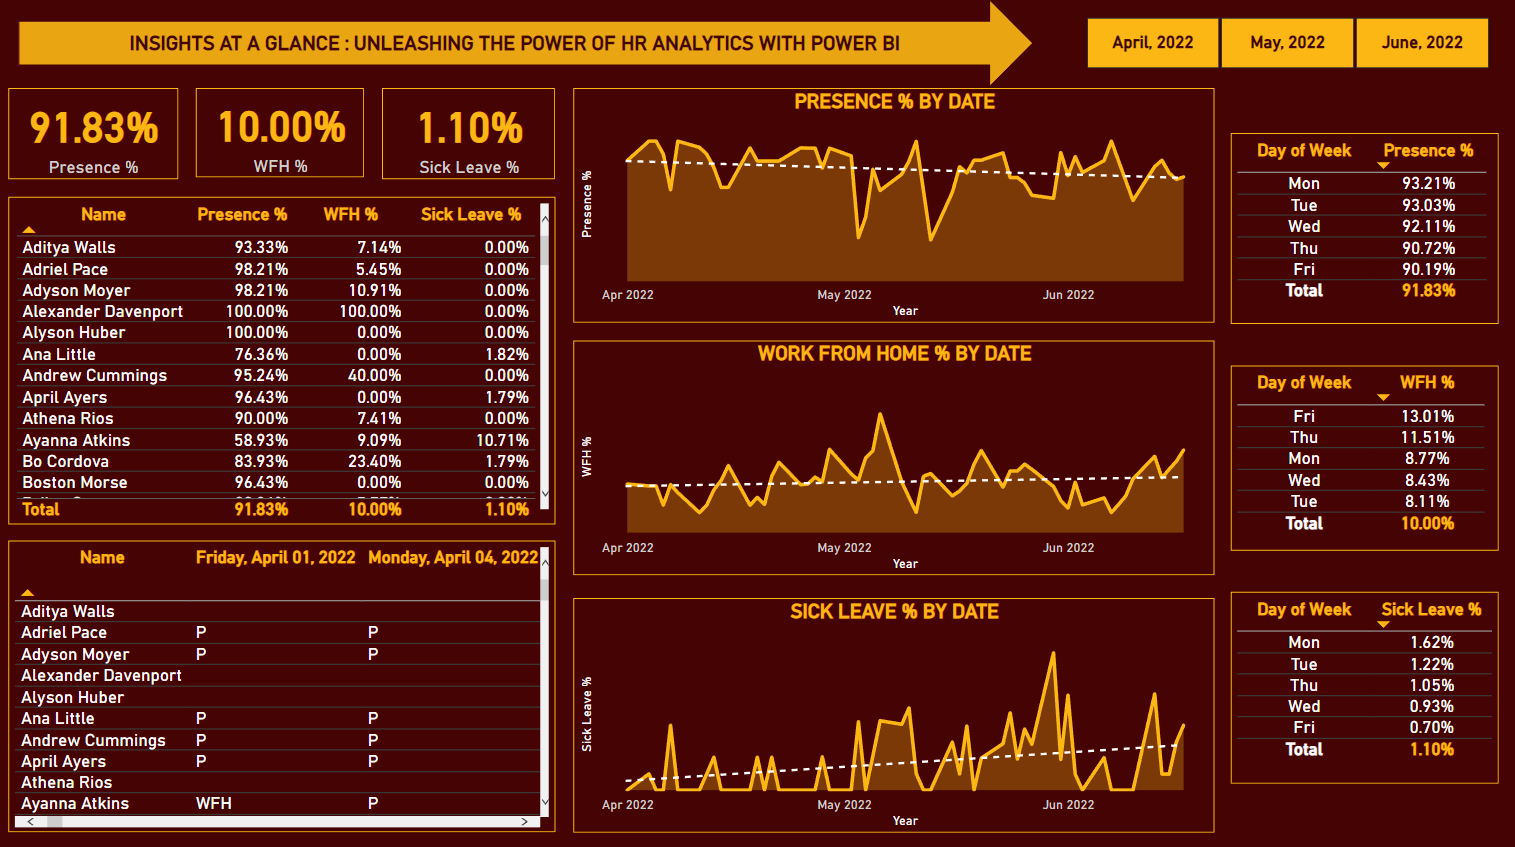

This screenshot's page, from the dashboard's own definition file:
{"tool":"powerbi","page":{"name":"Final Report","canvas":[1280,720],"ordinal":0},"visuals":[{"type":"card","fields":{"Values":["Measure Table.Presence %"]},"box":[9.6,75.5,142.8,76.9],"z":0},{"type":"card","fields":{"Values":["Measure Table.WFH %"]},"box":[167.6,75.5,141.5,75.5],"z":1000},{"type":"card","fields":{"Values":["Measure Table.Sick Leave %"]},"box":[324.1,75.5,145.6,76.9],"z":2000},{"type":"slicer","fields":{"Values":["Final Data.Month"]},"box":[891.3,9.6,388.7,56.3],"z":3000},{"type":"tableEx","fields":{"Values":["Final Data.Name","Measure Table.Presence %","Measure Table.WFH %","Measure Table.Sick Leave %"]},"box":[9.3,167.6,460.8,275.8],"z":4000},{"type":"pivotTable","fields":{"Rows":["Final Data.Name"],"Values":["Min(Final Data.Value)"],"Columns":["Final Data.Date"]},"box":[9.3,457.3,460.8,245.5],"z":5000},{"type":"areaChart","title":"PRESENCE % BY DATE","fields":{"Y":["Measure Table.Presence %"],"Category":["Final Data.Date.Variation.Date Hierarchy.Year","Final Data.Date.Variation.Date Hierarchy.Quarter","Final Data.Date.Variation.Date Hierarchy.Month","Final Data.Date.Variation.Date Hierarchy.Day"]},"box":[485.2,75.6,539.9,197.8],"z":6000},{"type":"areaChart","title":"WORK FROM HOME % BY DATE","fields":{"Category":["Final Data.Date.Variation.Date Hierarchy.Year","Final Data.Date.Variation.Date Hierarchy.Quarter","Final Data.Date.Variation.Date Hierarchy.Month","Final Data.Date.Variation.Date Hierarchy.Day"],"Y":["Measure Table.WFH %"]},"box":[485.2,288.6,539.9,197.8],"z":7000},{"type":"areaChart","title":"SICK LEAVE % BY DATE","fields":{"Y":["Measure Table.Sick Leave %"],"Category":["Final Data.Date.Variation.Date Hierarchy.Year","Final Data.Date.Variation.Date Hierarchy.Quarter","Final Data.Date.Variation.Date Hierarchy.Month","Final Data.Date.Variation.Date Hierarchy.Day"]},"box":[485.2,505,539.9,197.8],"z":8000},{"type":"pivotTable","fields":{"Rows":["Final Data.1st Day of Week"],"Values":["Measure Table.Presence %"]},"box":[1039.1,114,225.7,160.6],"z":9000},{"type":"pivotTable","fields":{"Rows":["Final Data.1st Day of Week"],"Values":["Measure Table.WFH %"]},"box":[1039.1,309.5,225.7,155.9],"z":10000},{"type":"pivotTable","fields":{"Rows":["Final Data.1st Day of Week"],"Values":["Measure Table.Sick Leave %"]},"box":[1039.1,500.4,225.7,161.7],"z":11000},{"type":"shape","box":[17.5,0,855.3,75.6],"z":11002}]}

Visuals, with their boxes in screenshot pixels (x1, y1, x2, y2), scaled from the page's 1280x720 canvas onto the 1515x847 screenshot:
card - Measure Table.Presence %: 11:89:180:179
card - Measure Table.WFH %: 198:89:366:178
card - Measure Table.Sick Leave %: 384:89:556:179
slicer - Final Data.Month: 1055:11:1514:78
tableEx - Final Data.Name x Measure Table.Presence %: 11:197:556:522
pivotTable - Final Data.Name x Min(Final Data.Value): 11:538:556:827
"PRESENCE % BY DATE" areaChart: 574:89:1213:322
"WORK FROM HOME % BY DATE" areaChart: 574:340:1213:572
"SICK LEAVE % BY DATE" areaChart: 574:594:1213:827
pivotTable - Final Data.1st Day of Week x Measure Table.Presence %: 1230:134:1497:323
pivotTable - Final Data.1st Day of Week x Measure Table.WFH %: 1230:364:1497:547
pivotTable - Final Data.1st Day of Week x Measure Table.Sick Leave %: 1230:589:1497:779
shape: 21:0:1033:89
